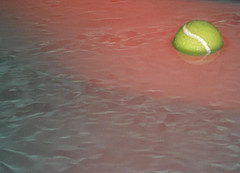tennis ball: (172, 17, 224, 59)
